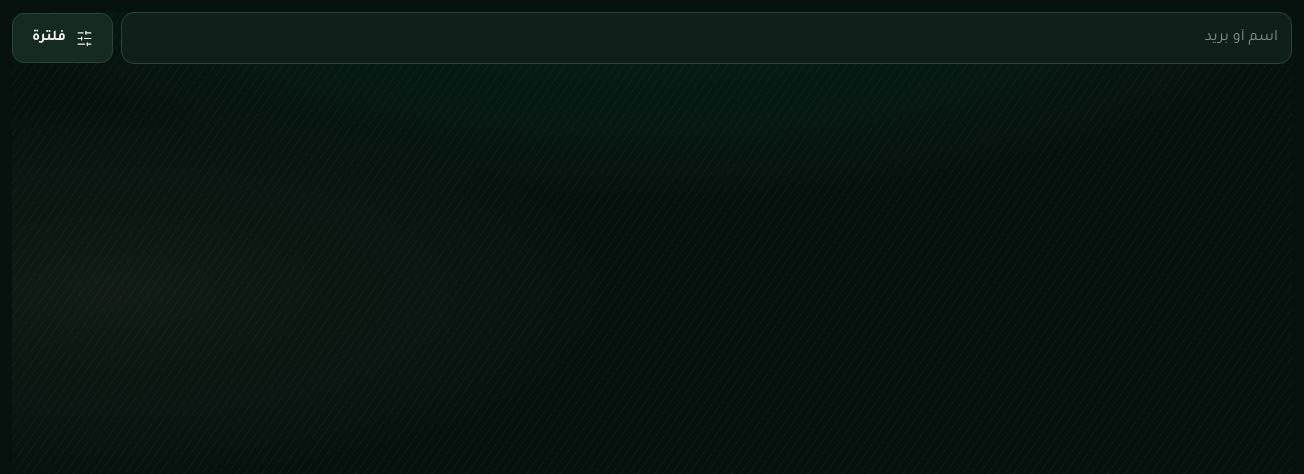
it: keeps the search visible and extra filters closed, then opens them through a button
The image size is (1304, 474).
Click the button "فلترة" at (62, 38), box [12, 13, 113, 63]
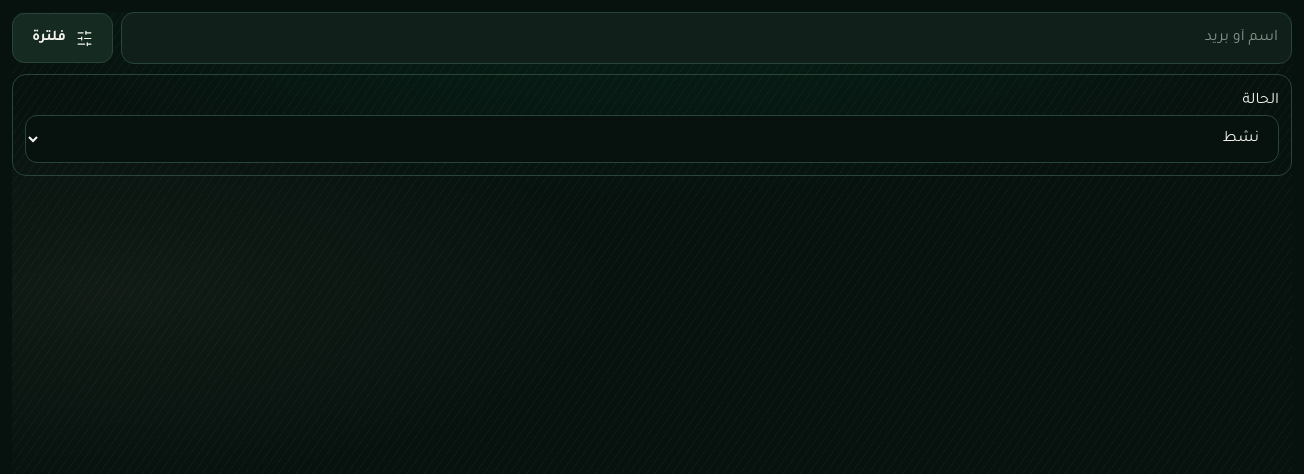
expect the dropdown labelled "الحالة" is shown: met, box [25, 115, 1279, 163]
Click the button "فلترة" at (62, 38), box [12, 13, 113, 63]
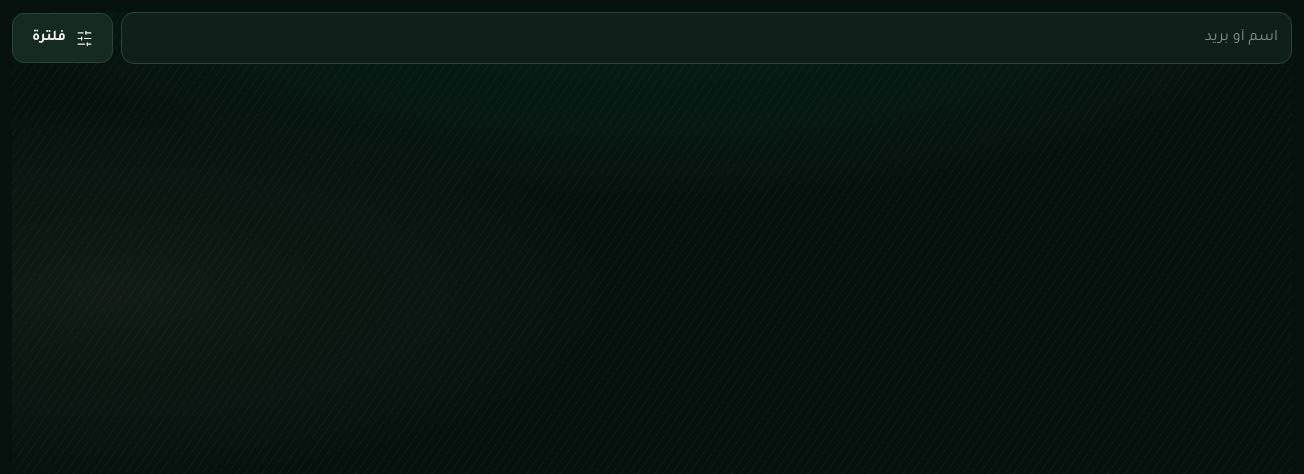
expect the dropdown is gone: met
